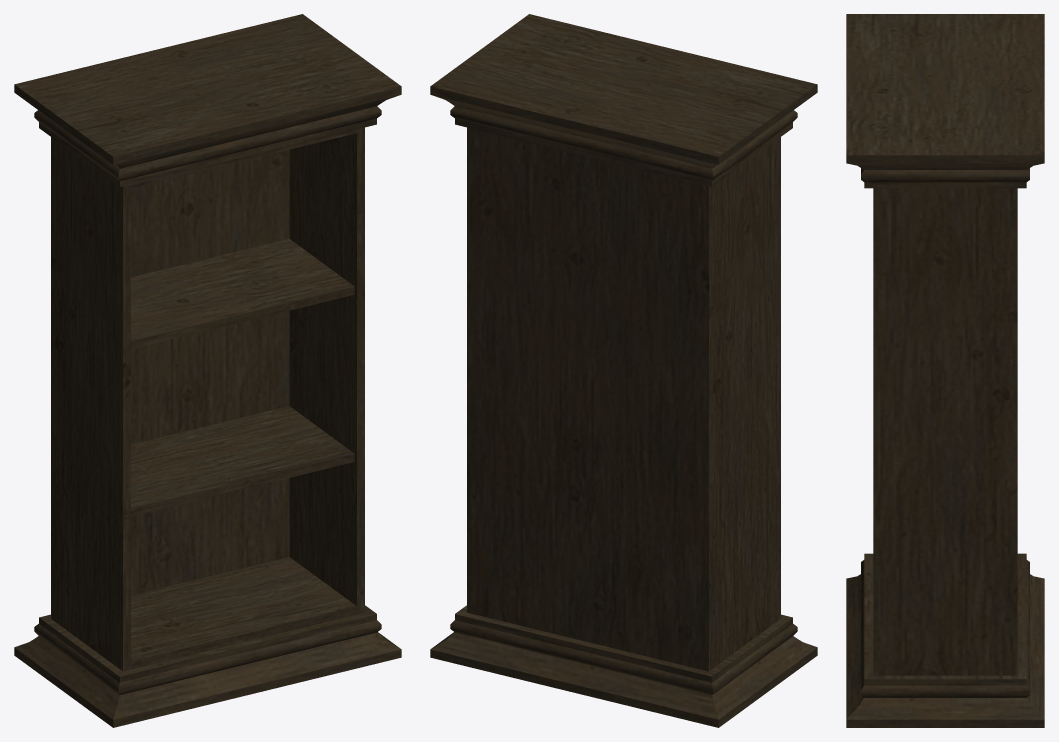
File: shelf_mp_2_4.obj
The picture shows the model from 3 angles, left to right: view 1: azimuth 30°, elevation 25°; view 2: azimuth 150°, elevation 25°; view 3: azimuth 270°, elevation 25°; orthographic projection.
Visible parts, largest first — view 1: shelf_mp_2_4; view 2: shelf_mp_2_4; view 3: shelf_mp_2_4.
Boxes of the visible parts, <box> form: shelf_mp_2_4: <box>14,14,401,727</box>; shelf_mp_2_4: <box>430,14,817,727</box>; shelf_mp_2_4: <box>846,14,1044,727</box>.
Size of the model in its own units: 0.74 by 1.4 by 0.44.
